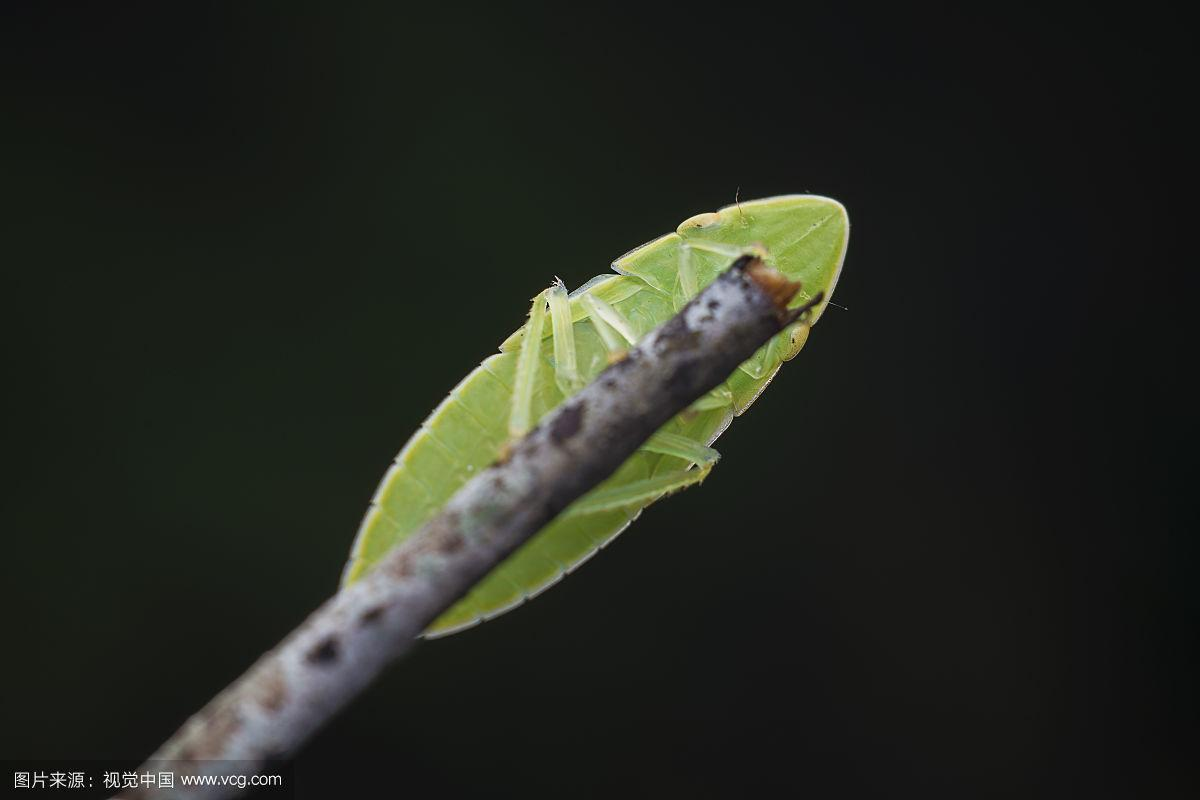Cicadellidae: (333, 189, 856, 643)
